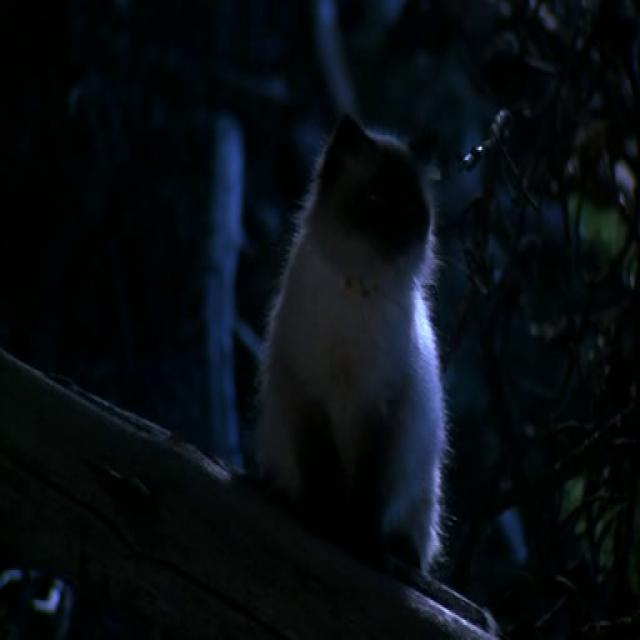Cat: (252, 114, 474, 582)
